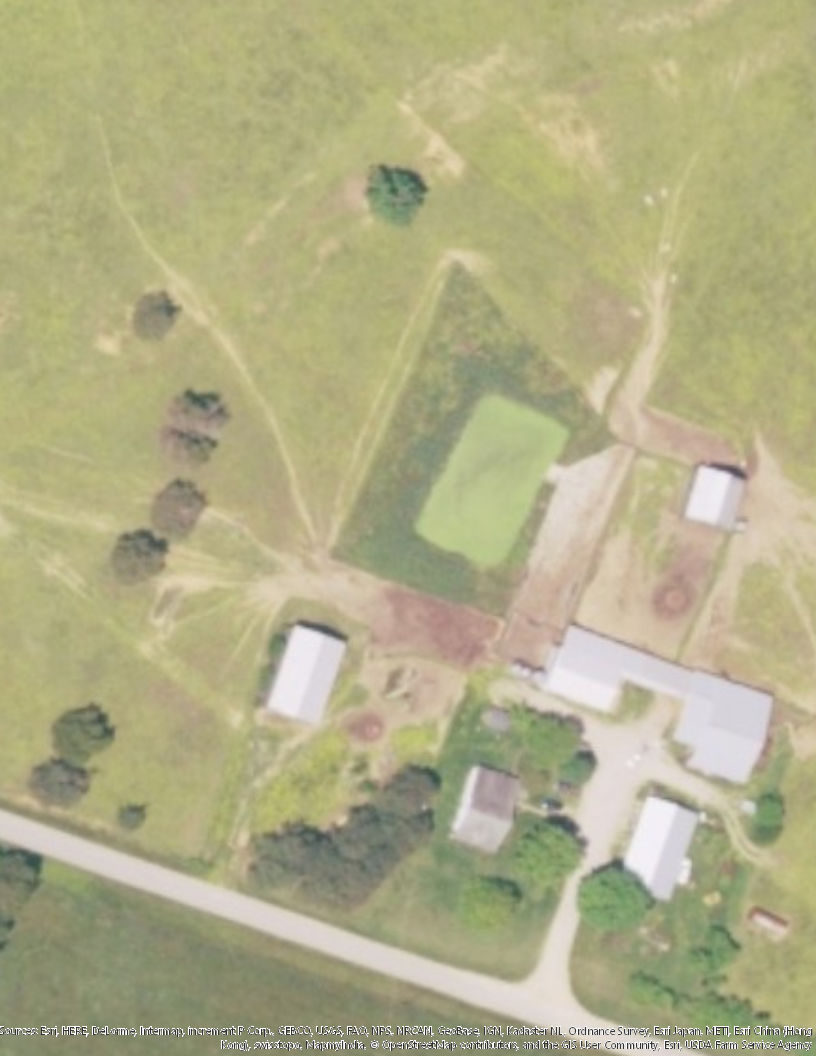cafo: (524, 613, 777, 795), (611, 788, 707, 913)
